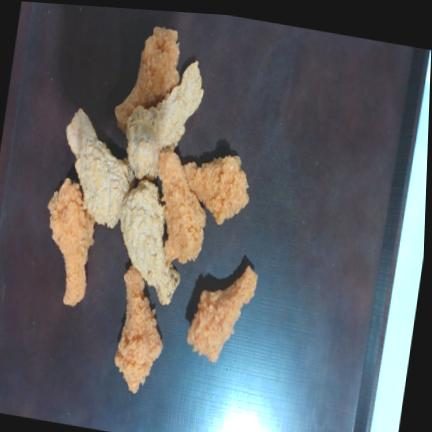chicken: (126, 62, 204, 179), (67, 109, 133, 228), (120, 180, 180, 304), (116, 27, 180, 132), (188, 266, 257, 362), (115, 266, 163, 393), (48, 179, 95, 306), (159, 151, 206, 263), (184, 156, 249, 224)
